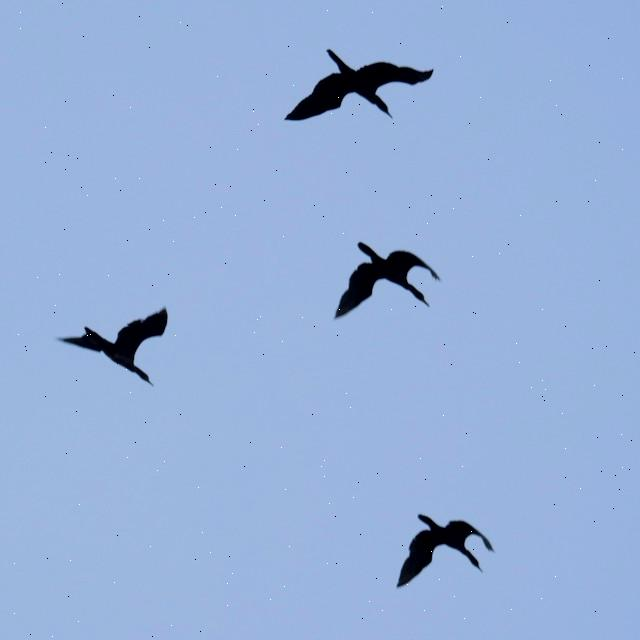cormorant: (282, 46, 436, 132), (393, 500, 503, 600), (334, 232, 448, 328)
